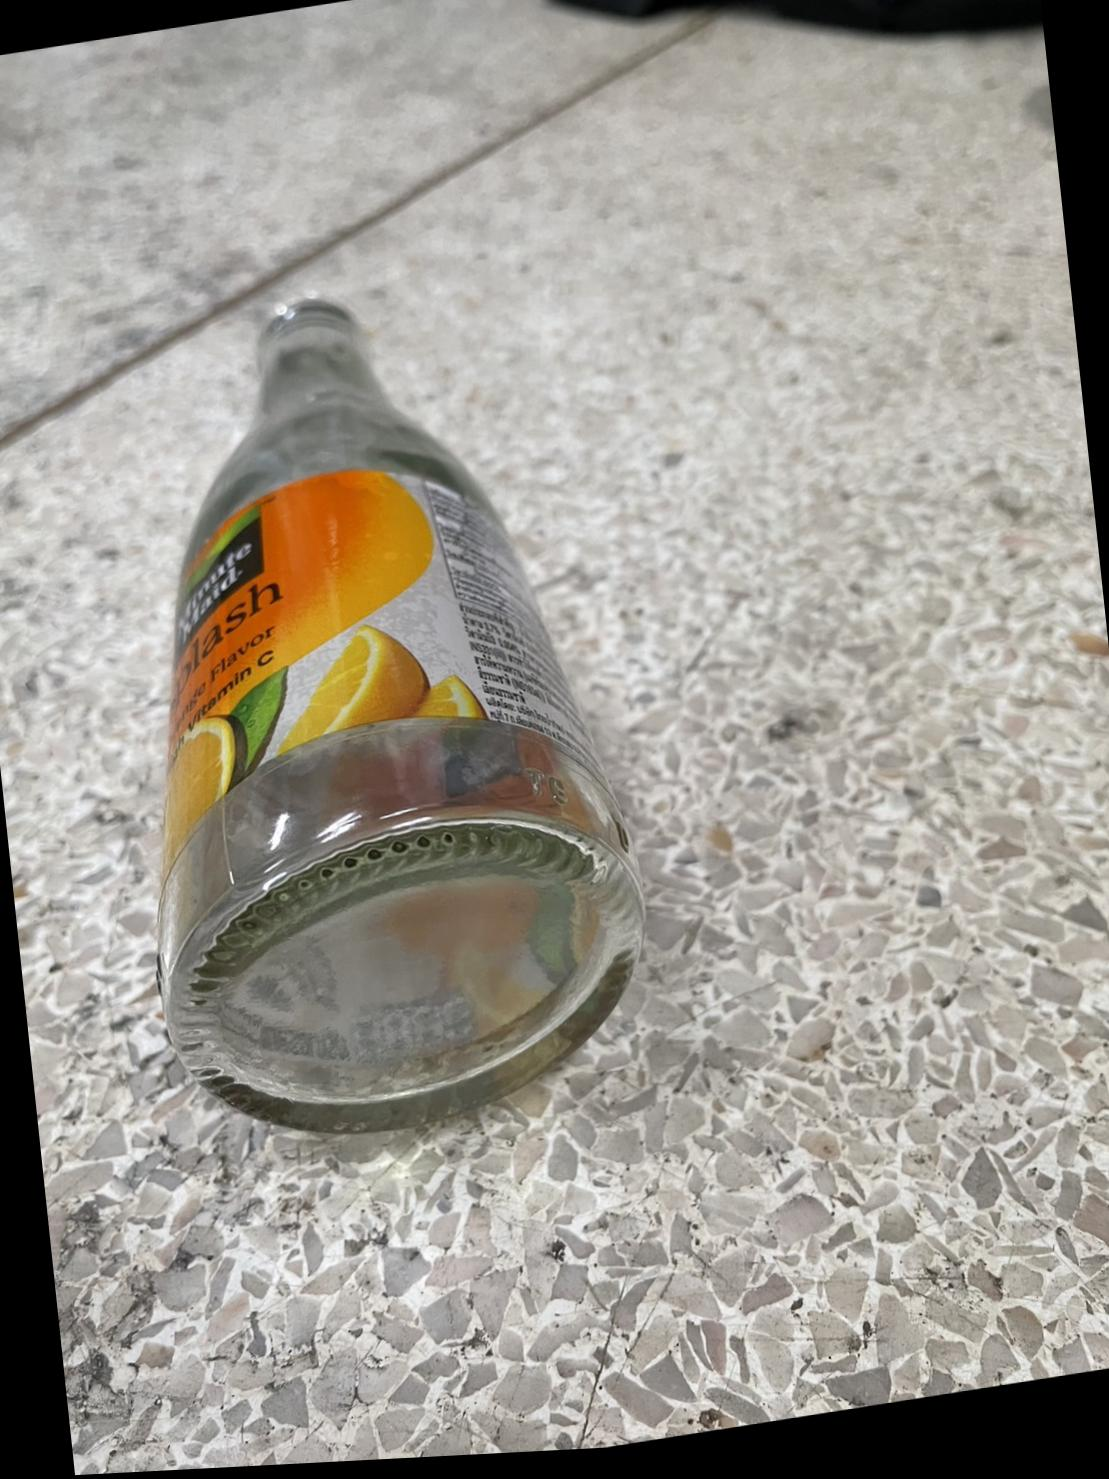glass: (82, 243, 671, 1172)
